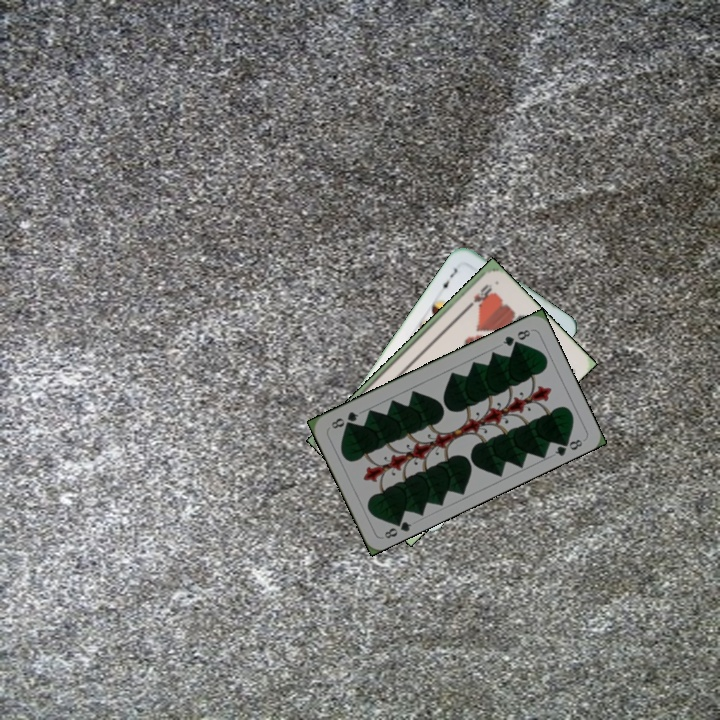E7: (436, 264, 460, 293)
G8: (380, 514, 414, 541), (499, 325, 533, 349)
HO: (463, 280, 493, 312)
